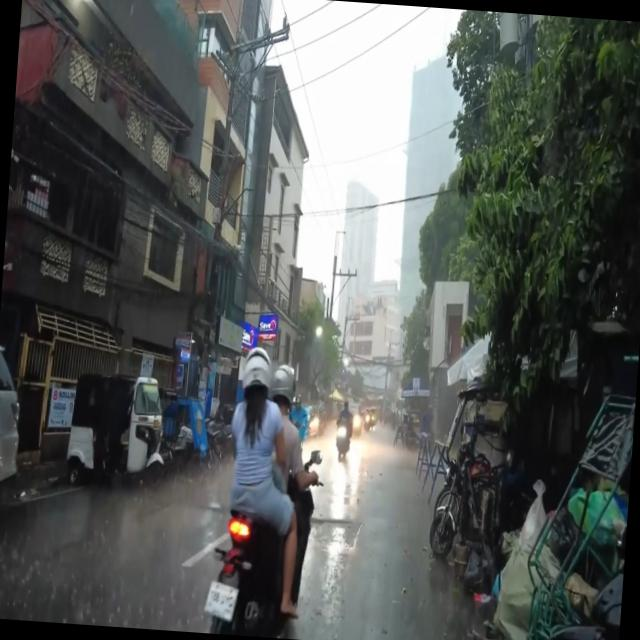half: (240, 346, 273, 392), (269, 362, 297, 412)
